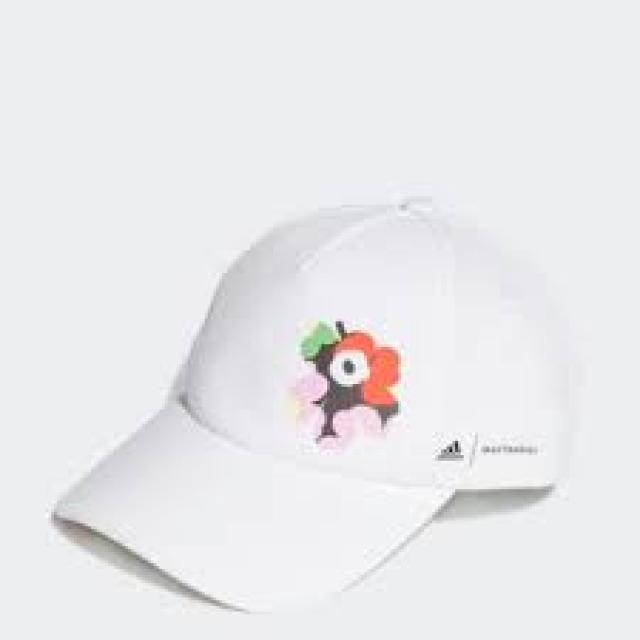cap: (44, 186, 584, 621)
